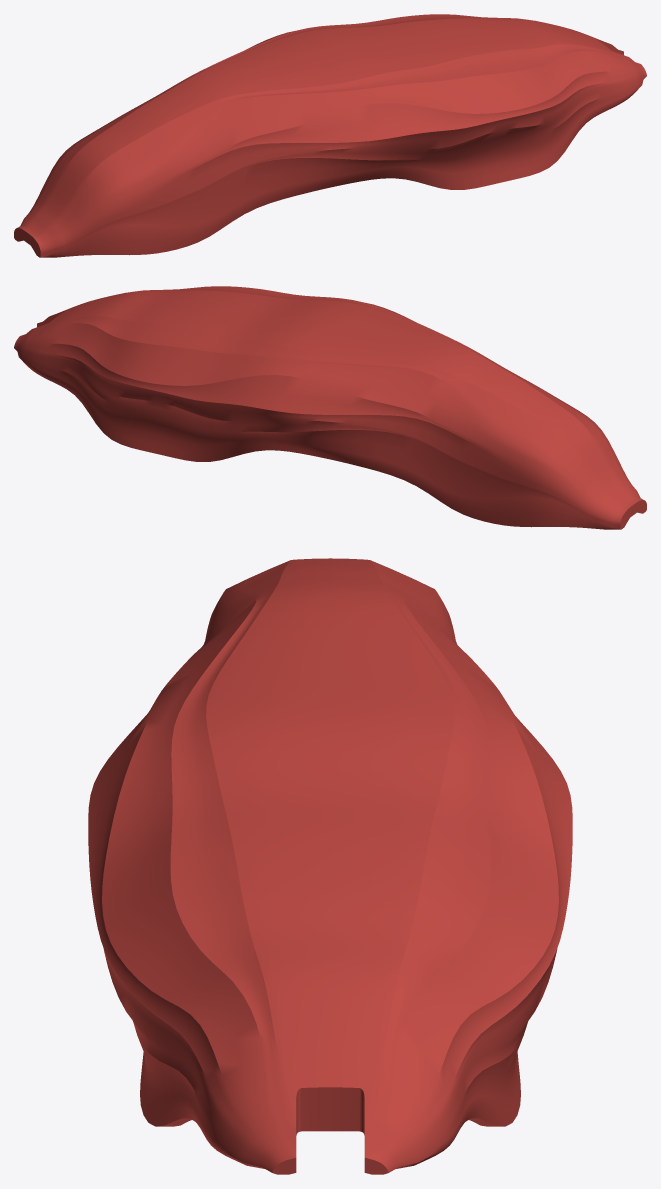
File: wedge_lod1.glb
3 renders of one model, top to bottom at view 1: azimuth 30°, elevation 25°; view 2: azimuth 150°, elevation 25°; view 3: azimuth 270°, elevation 25°, orthographic. The views are drawn at different scales.
Parts seen in each view (by area): view 1: wedge_lod1; view 2: wedge_lod1; view 3: wedge_lod1.
Boxes of the visible parts, x1,y1,x2,y2 form: wedge_lod1: [14, 14, 646, 257]; wedge_lod1: [14, 286, 646, 529]; wedge_lod1: [88, 558, 572, 1174].
Bounding box in the file's own units: 1.07 × 0.2181 × 0.3695.
